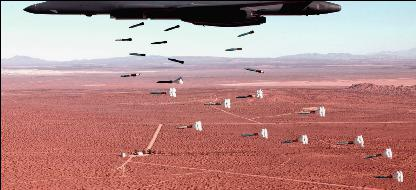AV8B: (21, 1, 341, 26)
